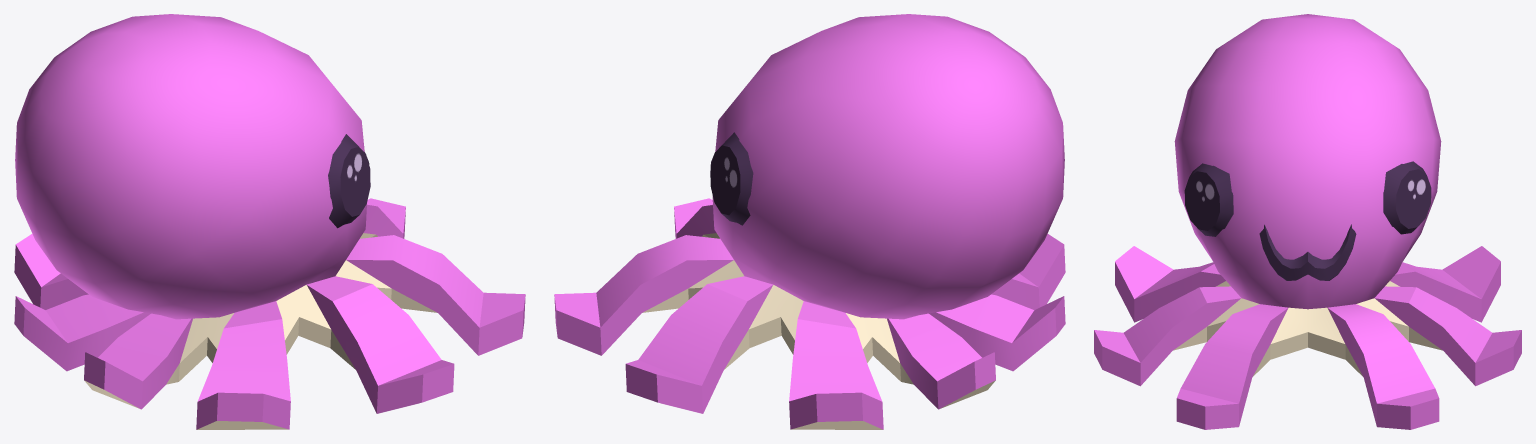
File: oct.fbx
3 views of the same model, side by side, from view 1: azimuth 30°, elevation 25°; view 2: azimuth 150°, elevation 25°; view 3: azimuth 270°, elevation 25° (orthographic). The views are drawn at different scales.
Visible parts, largest first — view 1: oct; view 2: oct; view 3: oct.
Boxes of the visible parts, bbox=[...] form: oct: bbox=[14, 14, 525, 429]; oct: bbox=[554, 14, 1065, 429]; oct: bbox=[1094, 14, 1521, 429].
Bounding box in the file's own units: 444 × 323 × 442.
1 material, 1 textured.
